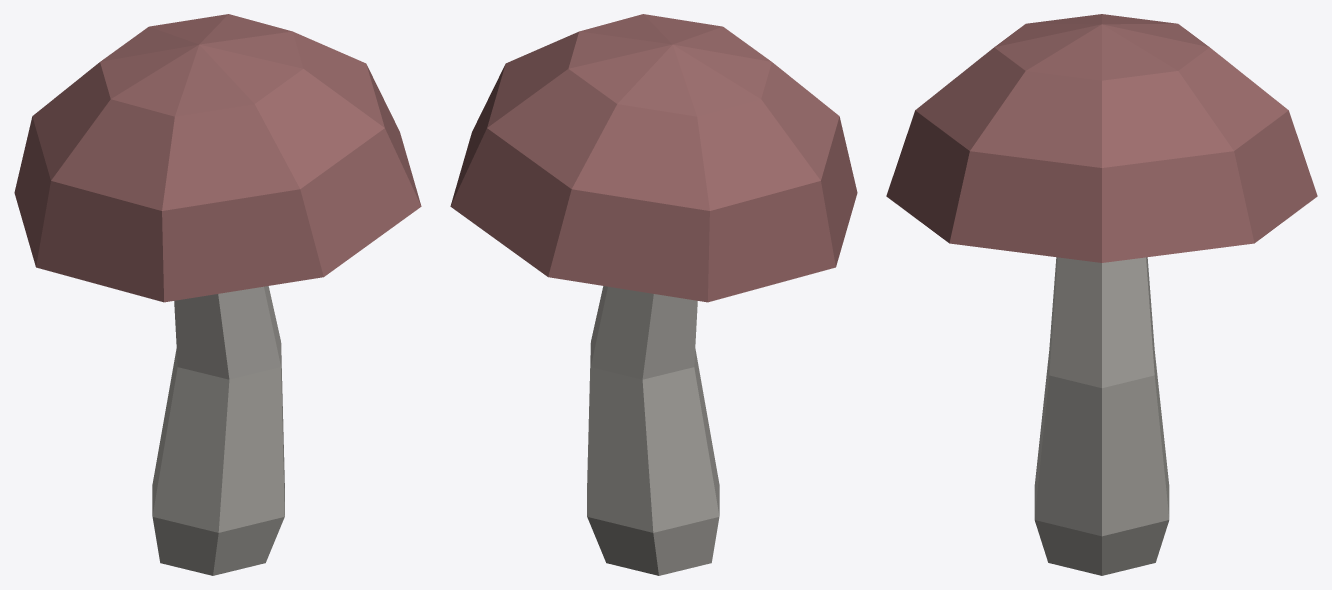
Rendered from RoundMush2.fbx.
3 views of the same model, side by side, from view 1: azimuth 30°, elevation 25°; view 2: azimuth 150°, elevation 25°; view 3: azimuth 270°, elevation 25° (orthographic).
Visible parts, largest first — view 1: Roundmush4; view 2: Roundmush4; view 3: Roundmush4.
Boxes of the visible parts, box(x1,y1,x2,y2) form: Roundmush4: box(14, 14, 421, 575); Roundmush4: box(450, 14, 857, 575); Roundmush4: box(886, 14, 1317, 575).
Size of the model in its own units: 1.6 by 2.14 by 1.61.
